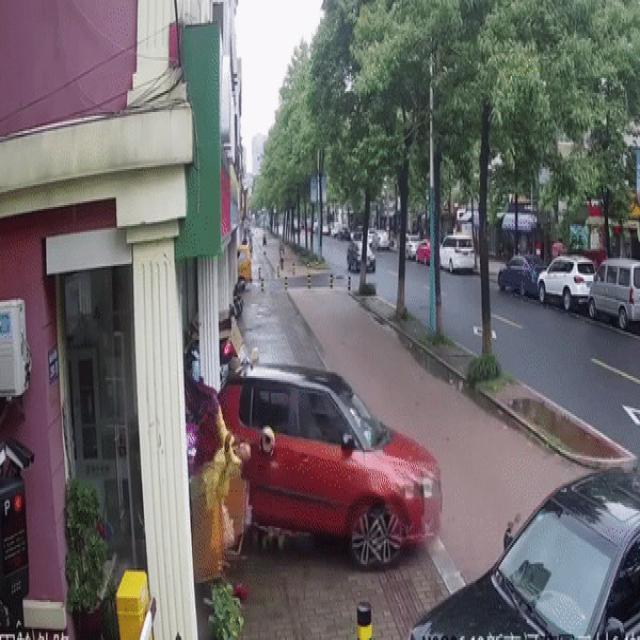multiple_accident: (155, 329, 449, 599)
